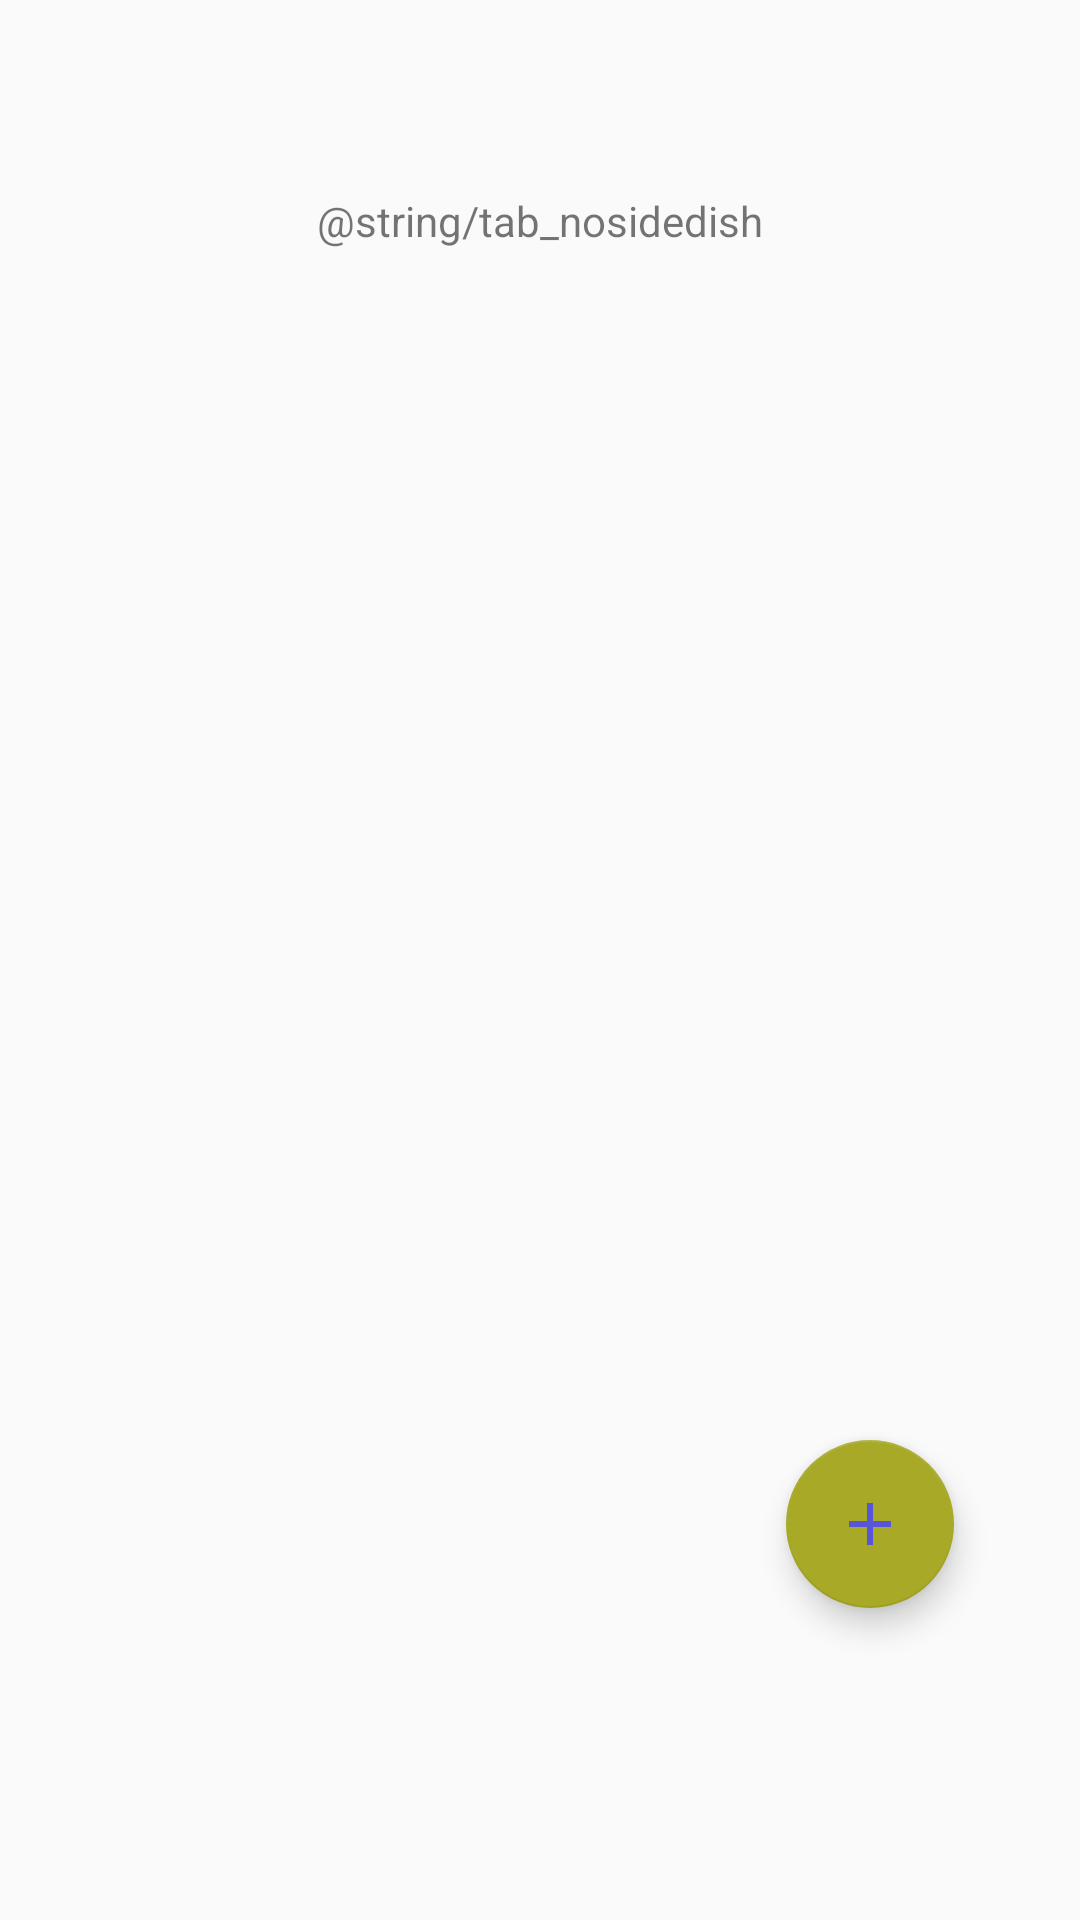

Where icons sit on this 1080x1920 app screen, as (x1, y1, x2, y2):
add: (786, 1440, 954, 1608)
